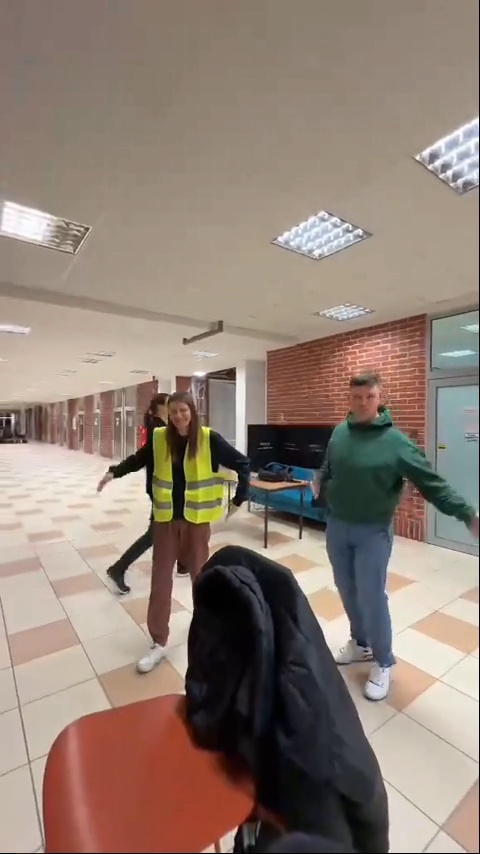no vest: (319, 361, 442, 720)
vest: (139, 392, 250, 669)
